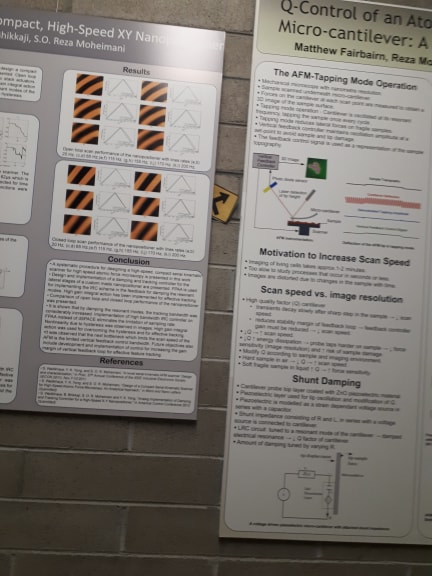right: (207, 181, 245, 227), (215, 190, 232, 206)
